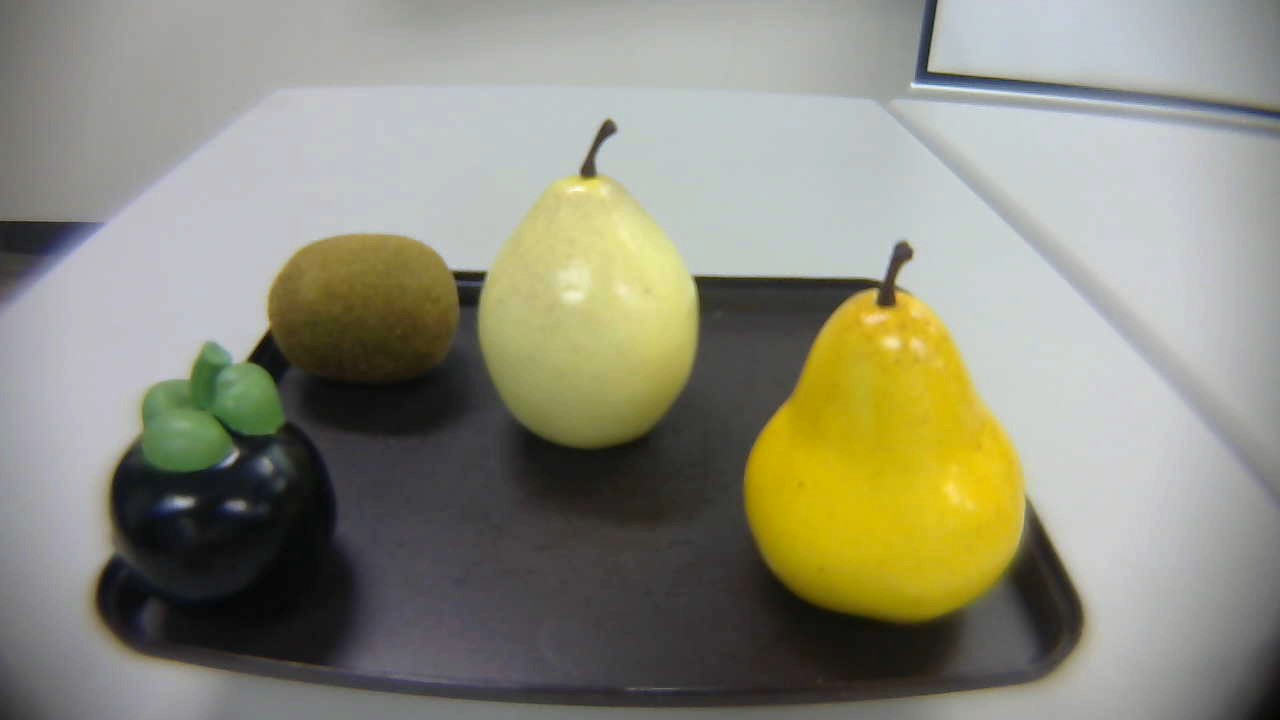kiwi fruit: (255, 223, 477, 391)
mangosteen: (106, 329, 347, 609)
western pear: (472, 111, 700, 461)
yellow pear: (728, 239, 1055, 636)
